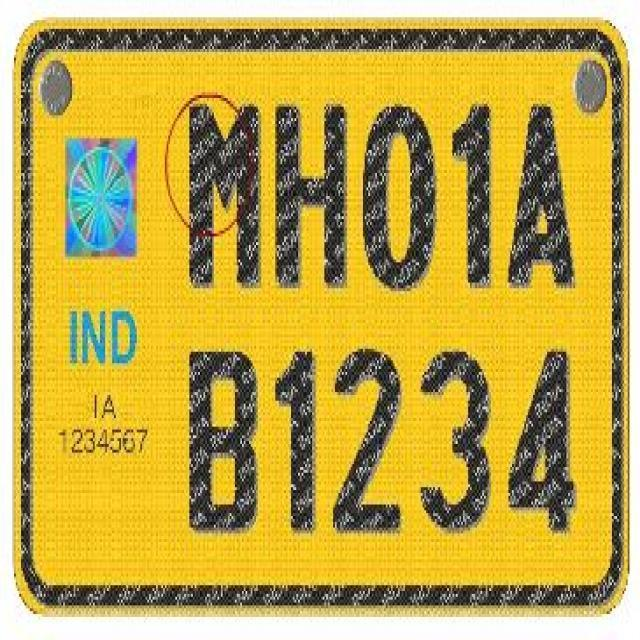License_Plate: (12, 15, 632, 615)
